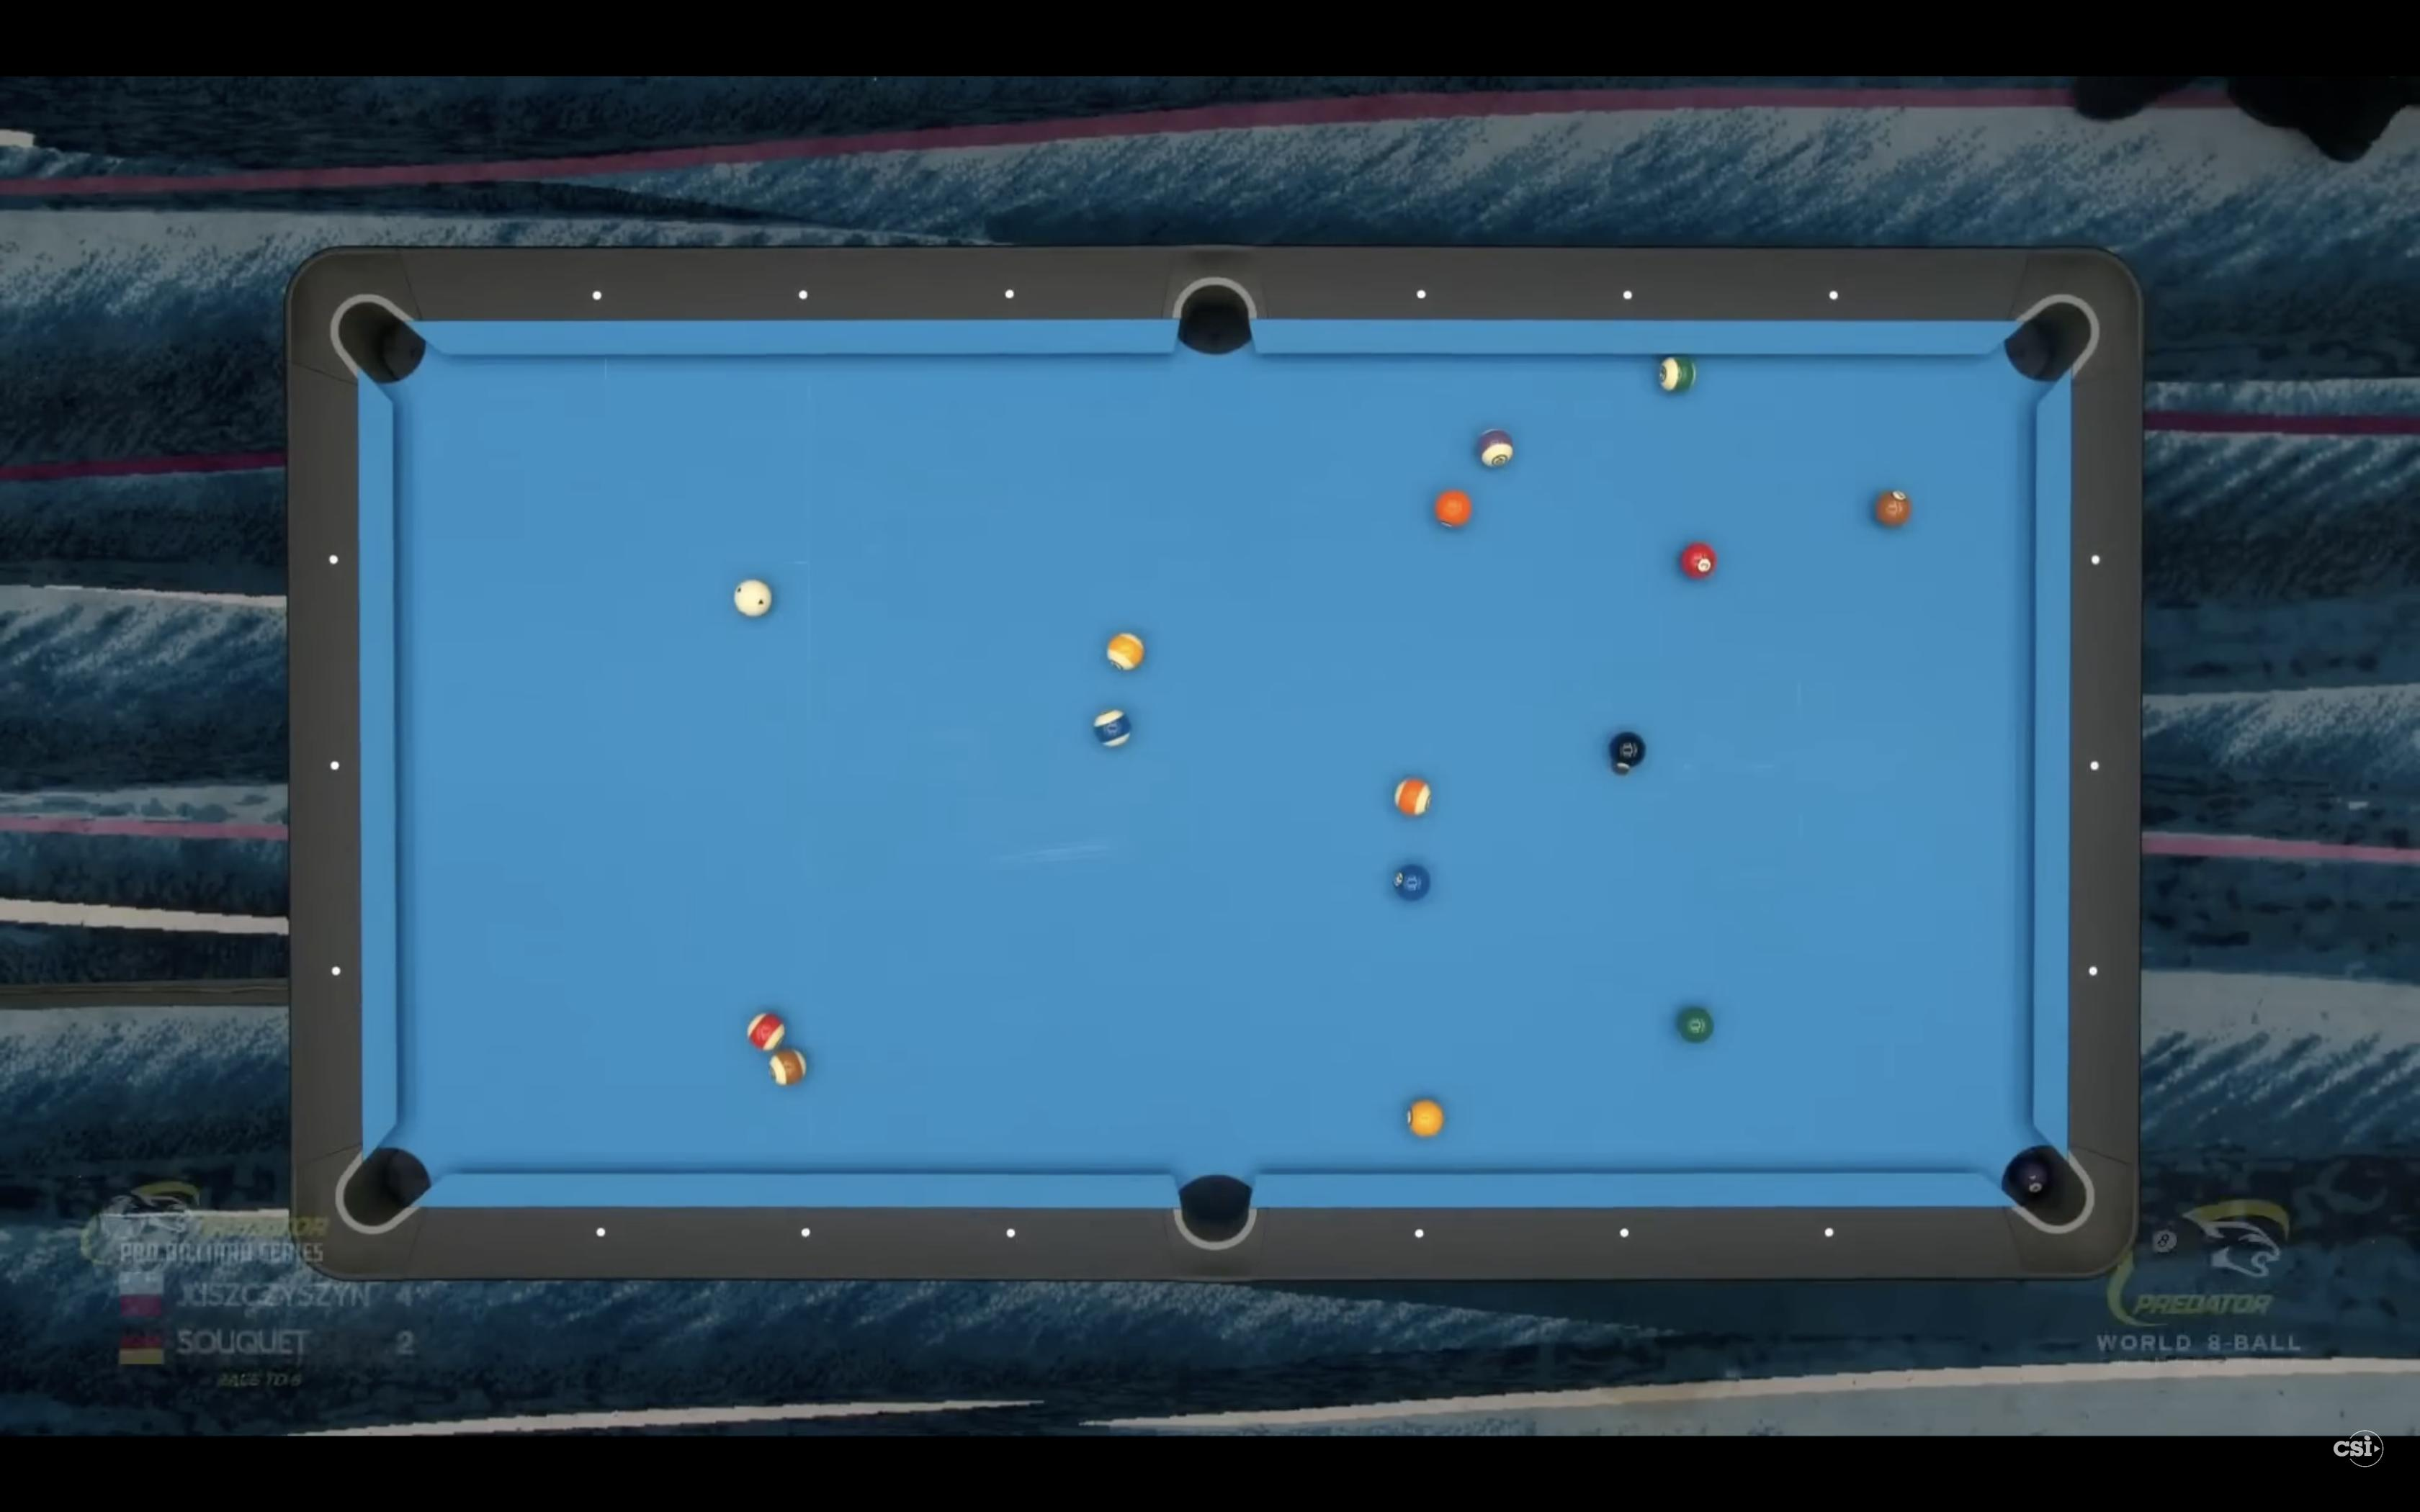Black: (1610, 732, 1645, 768)
Cue: (735, 580, 772, 617)
Dot: (1416, 289, 1427, 300), (329, 759, 340, 770), (1824, 1228, 1835, 1237), (1620, 1228, 1629, 1239), (1007, 1228, 1016, 1239), (596, 1228, 606, 1237), (331, 967, 341, 975), (329, 554, 338, 564), (592, 291, 601, 300), (800, 291, 808, 300), (1005, 289, 1014, 298), (1624, 291, 1632, 300), (1829, 291, 1838, 300), (2091, 556, 2099, 564), (2091, 761, 2099, 770), (2089, 967, 2098, 975), (1415, 1230, 1423, 1239), (801, 1228, 810, 1237)
Solid: (1396, 864, 1430, 901), (1408, 1101, 1443, 1137), (1681, 543, 1716, 578), (1876, 491, 1911, 526), (1680, 1007, 1713, 1043), (1437, 491, 1470, 528)
Striped: (747, 1014, 786, 1050), (1659, 355, 1695, 394), (1108, 634, 1145, 671), (1396, 779, 1432, 815), (1096, 711, 1131, 747), (770, 1050, 805, 1087), (1479, 430, 1512, 467)
